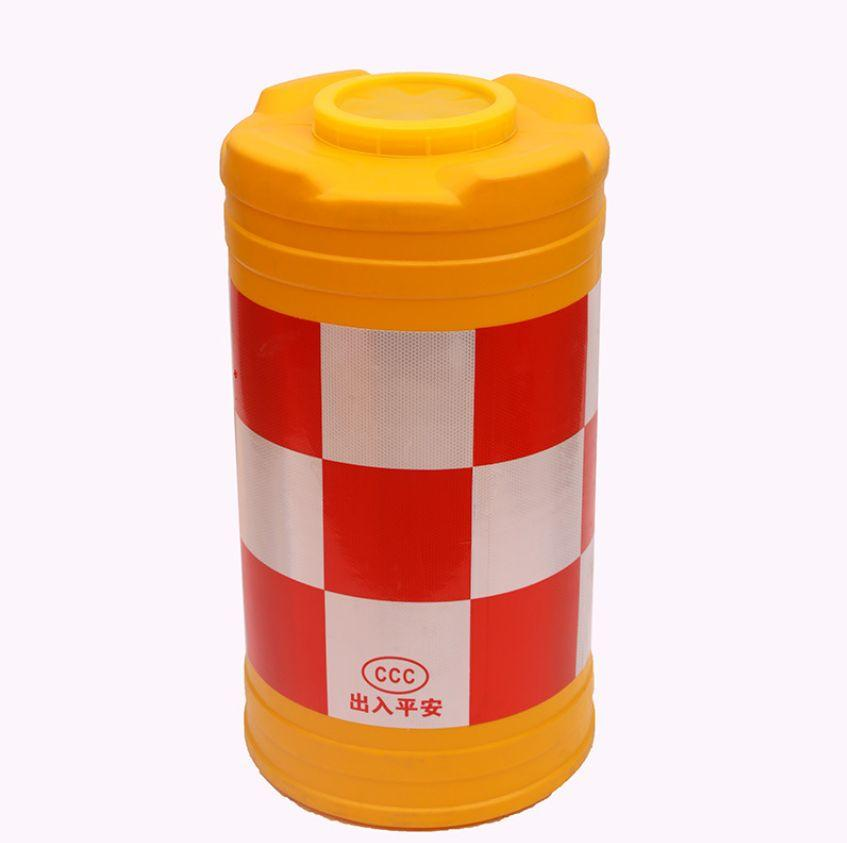sign: (191, 45, 625, 843)
